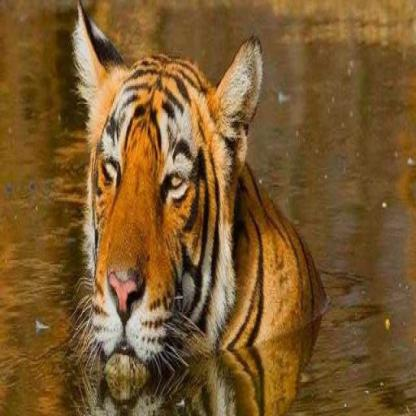Tiger: (35, 0, 340, 367)
